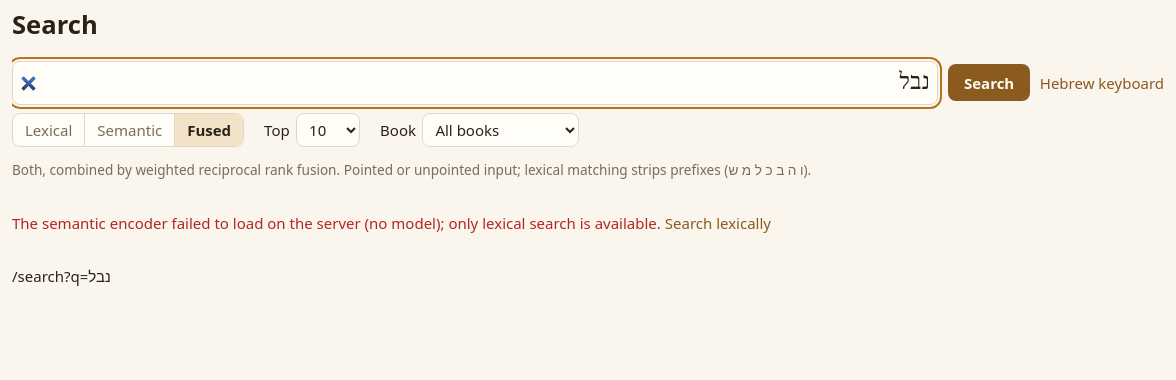
SearchPage › says when the semantic encoder failed and offers lexical search
Check: the text "failed to load on the server (no model)" is shown, box [12,213,661,233]
Click the button "Search lexically" at (718, 223), box [665,212,771,234]
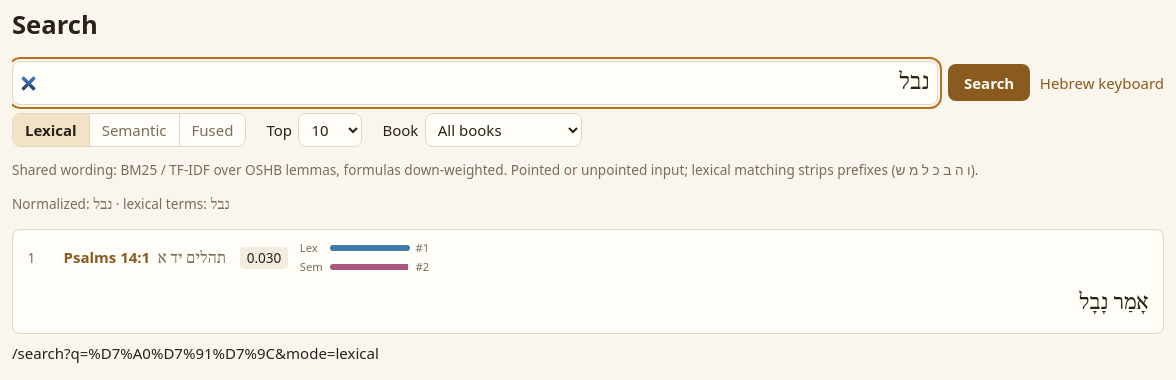
Check: the link "Psalms 14:1תהלים יד א" is shown, box [64,246,226,270]
